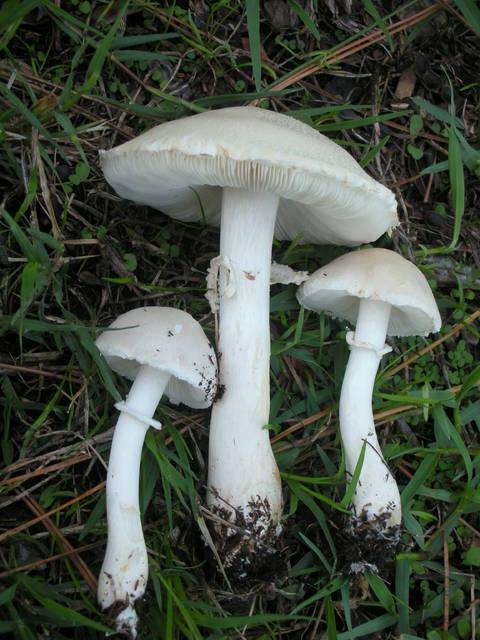poisonous_mushroom: (96, 103, 400, 573), (295, 246, 442, 554), (92, 304, 219, 637)
